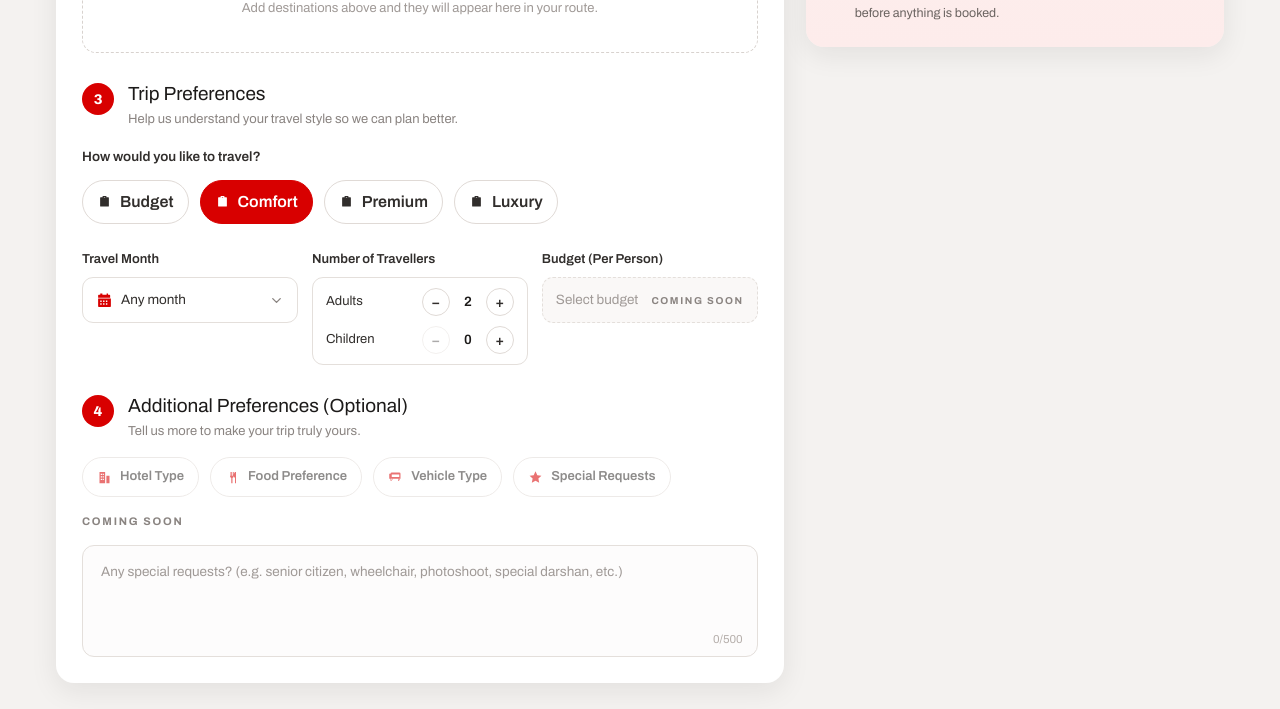
TripBuilder — special-requests textarea › caps at 500 characters (maxLength attribute) and its live counter updates
(page scrolled)
Expected: the text "0/500" is shown, top-left (713, 631), bottom-right (743, 648)
Type "Hello world" into the text box labelled "Any special requests?" at (420, 598), box top-left (83, 546), bottom-right (757, 649)
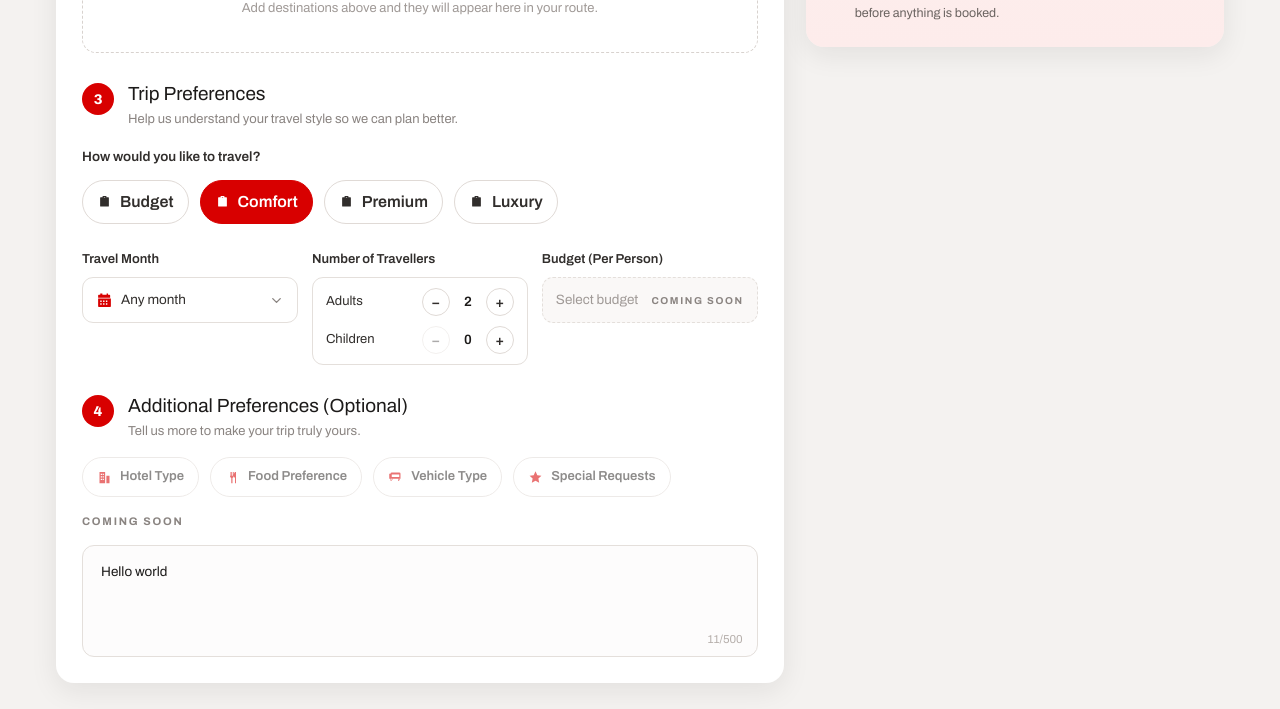
Now the text "11/500" is shown, box top-left (708, 631), bottom-right (743, 648)
